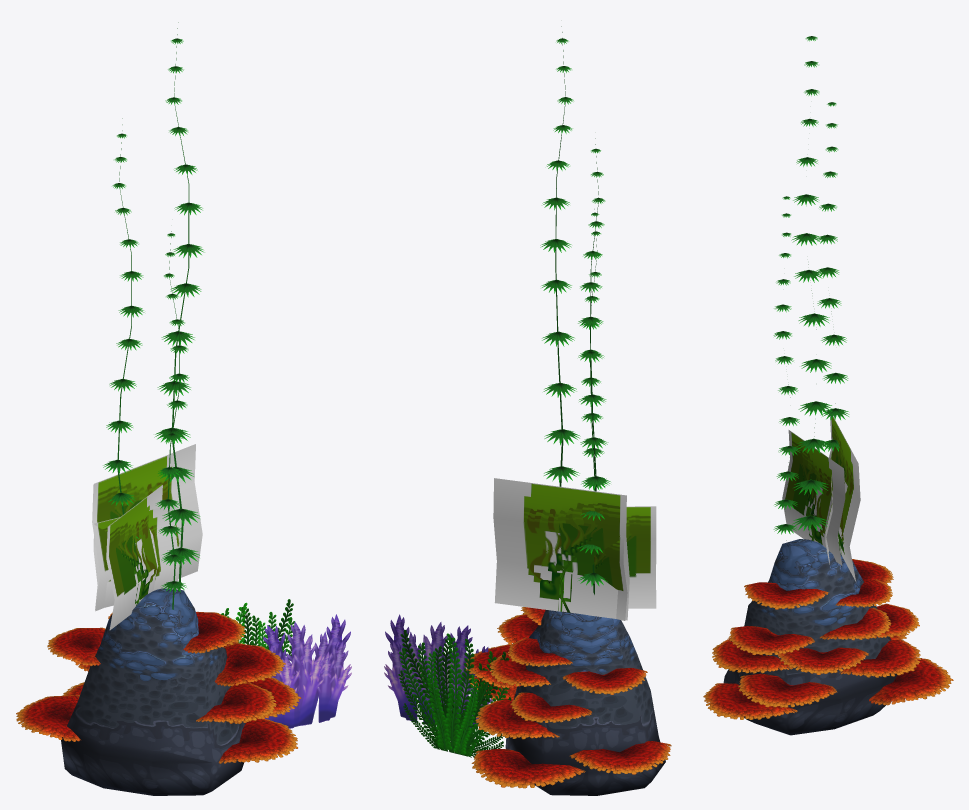
File: CoralSet_13.FBX
The picture shows the model from 3 angles, left to right: view 1: azimuth 30°, elevation 25°; view 2: azimuth 150°, elevation 25°; view 3: azimuth 270°, elevation 25°; orthographic projection. The views are drawn at different scales.
Visible parts, largest first — view 1: Box007, Plane176, Plane285, Plane021, Plane286, Plane378, Plane284, Plane379, Plane269, Plane008; view 2: Box007, Plane285, Plane176, Plane008, Plane021, Plane286, Plane378, Plane379, Plane284, Plane269; view 3: Plane176, Box007, Plane286, Plane378, Plane285, Plane379, Plane269.
Part boxes in pixels (x1,y1,x2,y2): Box007: (61, 588, 245, 795); Plane176: (16, 611, 301, 763); Plane285: (92, 444, 202, 611); Plane021: (263, 614, 351, 728); Plane286: (106, 485, 162, 630); Plane378: (154, 22, 204, 591); Plane284: (93, 503, 179, 609); Plane379: (103, 118, 144, 541); Plane269: (156, 231, 189, 609); Plane008: (221, 599, 294, 660); Box007: (505, 610, 665, 795); Plane285: (493, 478, 629, 620); Plane176: (465, 607, 671, 788); Plane008: (398, 630, 511, 757); Plane021: (384, 614, 492, 733); Plane286: (542, 506, 656, 609); Plane378: (540, 26, 580, 486); Plane379: (577, 138, 610, 594); Plane284: (593, 537, 627, 620); Plane269: (580, 209, 606, 491); Plane176: (703, 559, 953, 719); Box007: (723, 539, 897, 735); Plane286: (782, 430, 845, 565); Plane378: (791, 36, 832, 542); Plane285: (829, 416, 860, 581); Plane379: (816, 102, 849, 457); Plane269: (773, 196, 800, 540).
Bounding box in the file's own units: 314 × 723 × 237.
